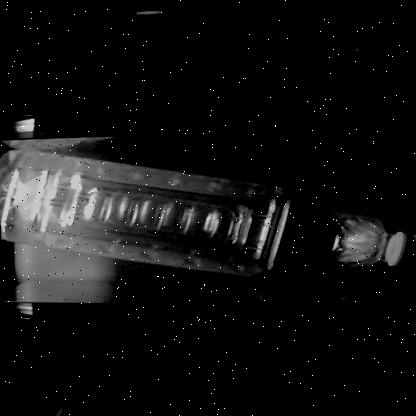Plastic Bottle: (0, 149, 408, 282)
